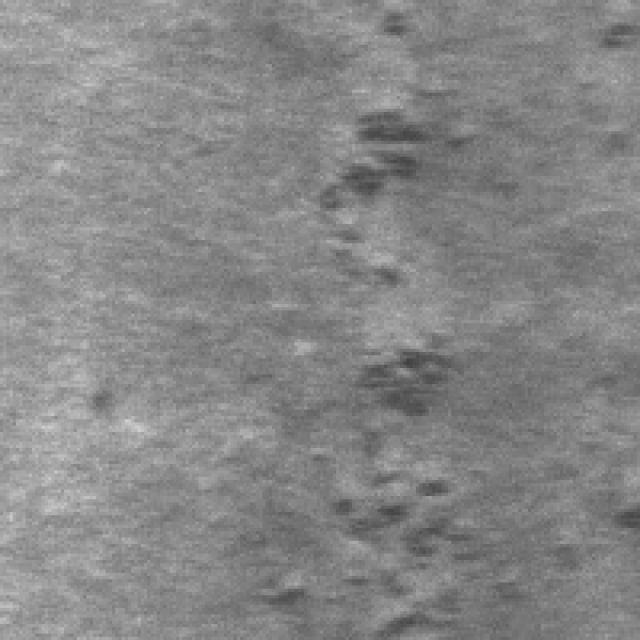rolled-in_scale: (294, 326, 538, 634), (326, 51, 489, 288)
